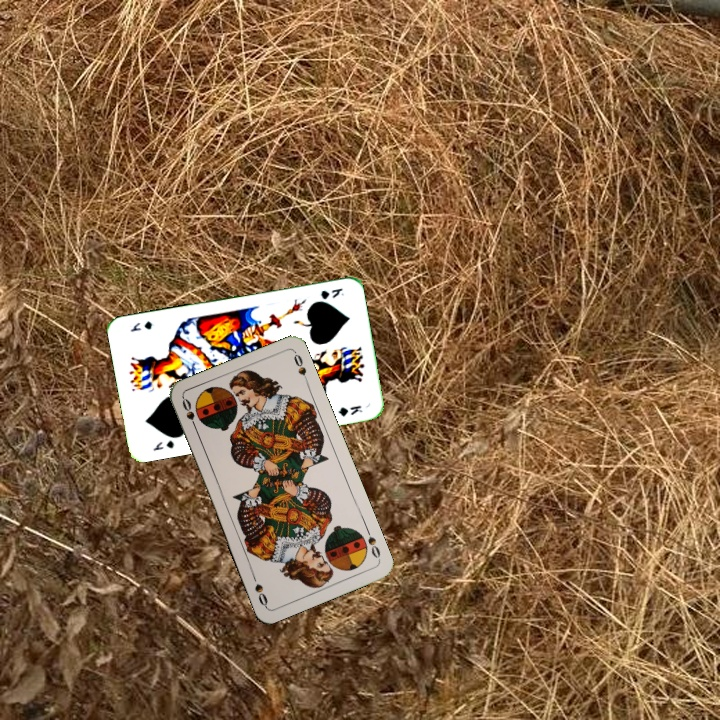GK: (315, 284, 347, 302), (149, 436, 176, 453)
SO: (178, 394, 200, 434), (362, 524, 383, 563)
